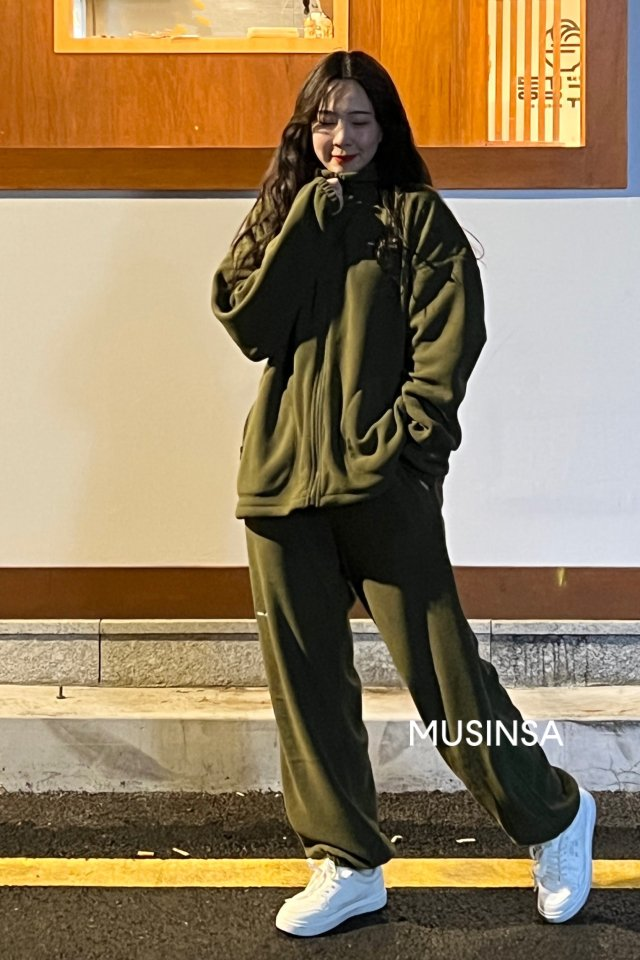Outer: (198, 158, 483, 517)
Shoes: (276, 784, 608, 945)
Training pants: (234, 487, 591, 859)
